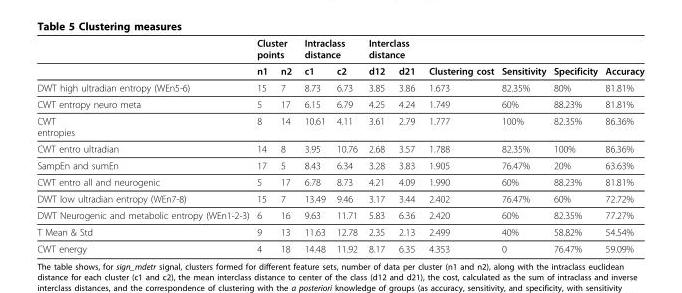table: (36, 36, 643, 253)
table column: (36, 36, 252, 253), (421, 36, 497, 253), (497, 36, 549, 253), (549, 36, 600, 253), (600, 36, 643, 253), (297, 36, 330, 253), (330, 36, 362, 253), (391, 36, 421, 253), (362, 36, 391, 253), (273, 36, 297, 253), (252, 36, 273, 253)
table column header: (36, 36, 643, 79)
table row: (36, 112, 643, 140), (36, 36, 643, 62), (36, 62, 643, 79), (36, 95, 643, 112), (36, 156, 643, 173), (36, 173, 643, 190), (36, 206, 643, 223), (36, 79, 643, 95), (36, 140, 643, 156), (36, 190, 643, 206), (36, 223, 643, 239), (36, 239, 643, 253)
table spanning cell: (421, 36, 497, 79), (497, 36, 549, 79), (549, 36, 600, 79), (600, 36, 643, 79), (297, 36, 362, 62), (362, 36, 421, 62), (252, 36, 297, 62)
